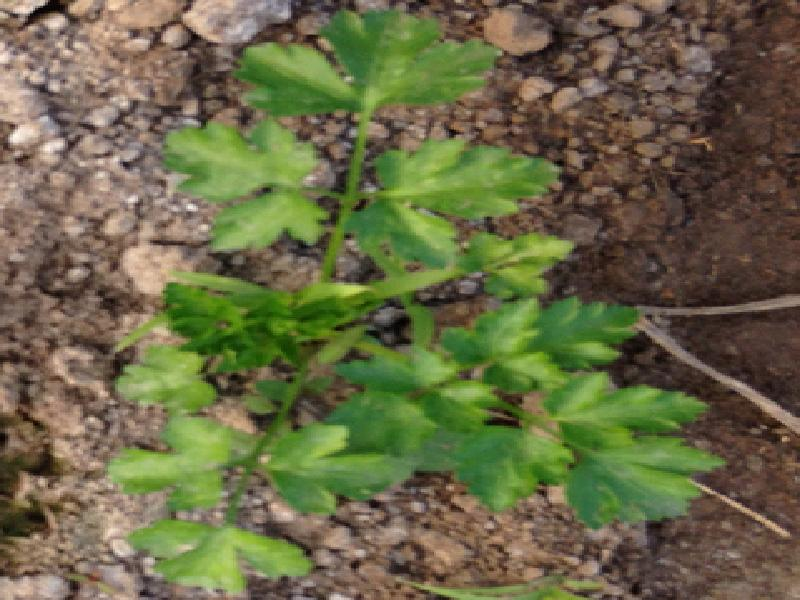radish: (0, 120, 798, 560)
